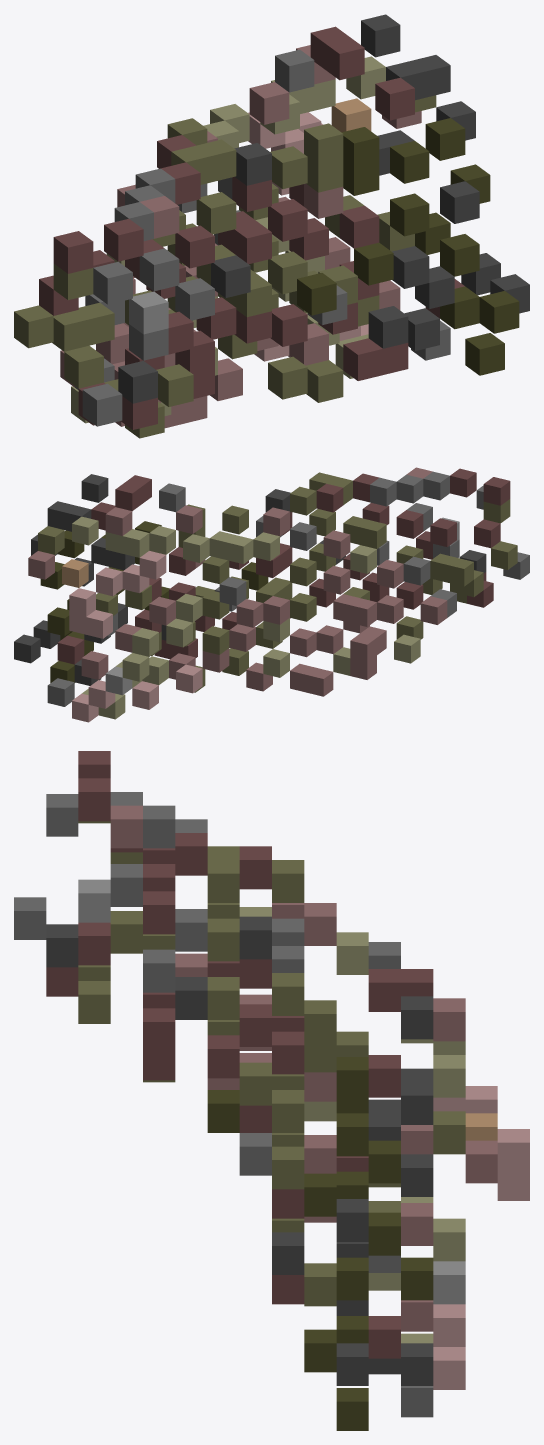
Rendered from object_014_voxel.obj.
3 renders of one model, top to bottom at view 1: azimuth 30°, elevation 25°; view 2: azimuth 150°, elevation 25°; view 3: azimuth 270°, elevation 25°, orthographic. The views are drawn at different scales.
Bounding box in the file's own units: 0.24 × 0.13 × 0.16.
